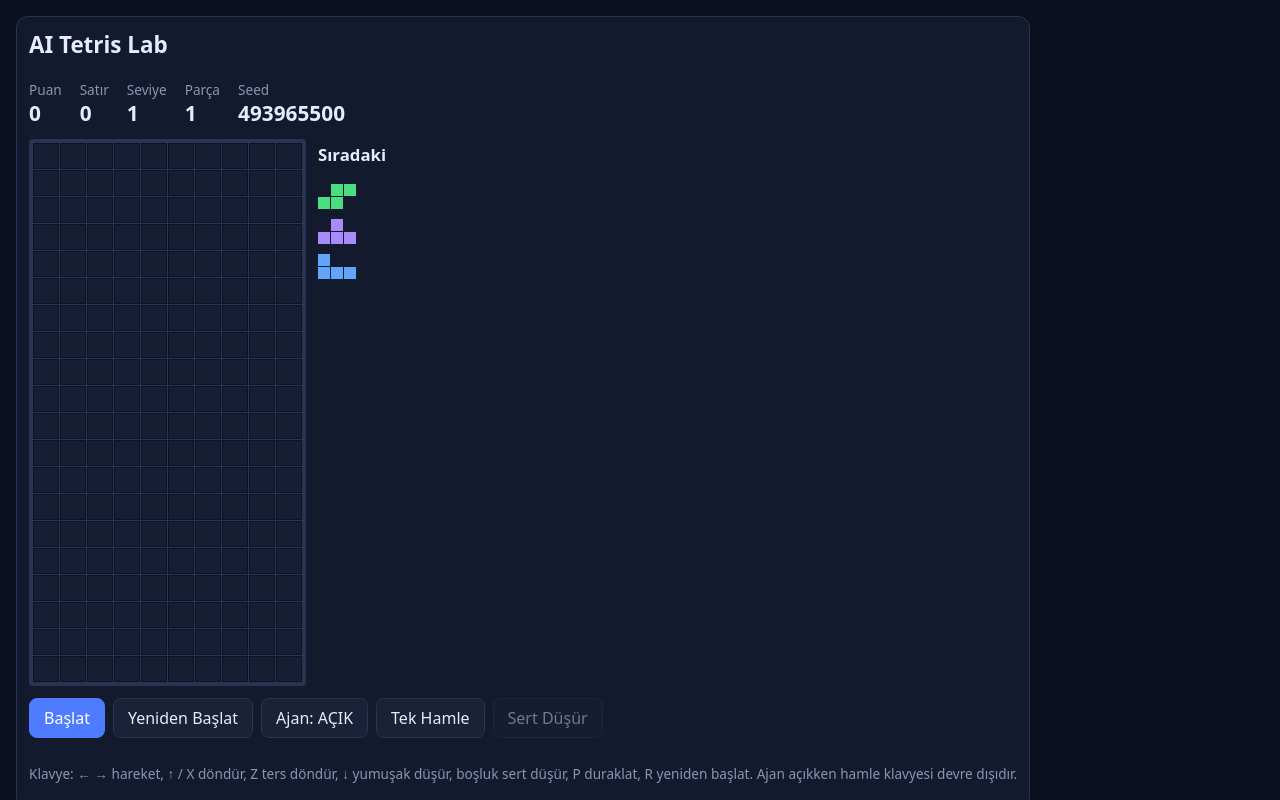
Test case: App — başlatma, duraklatma ve yeniden başlatma › ajanı açma ve kapatma çalışır
Click the button with test id "toggle-ai".
click(315, 718)  # box [261,698,368,738]
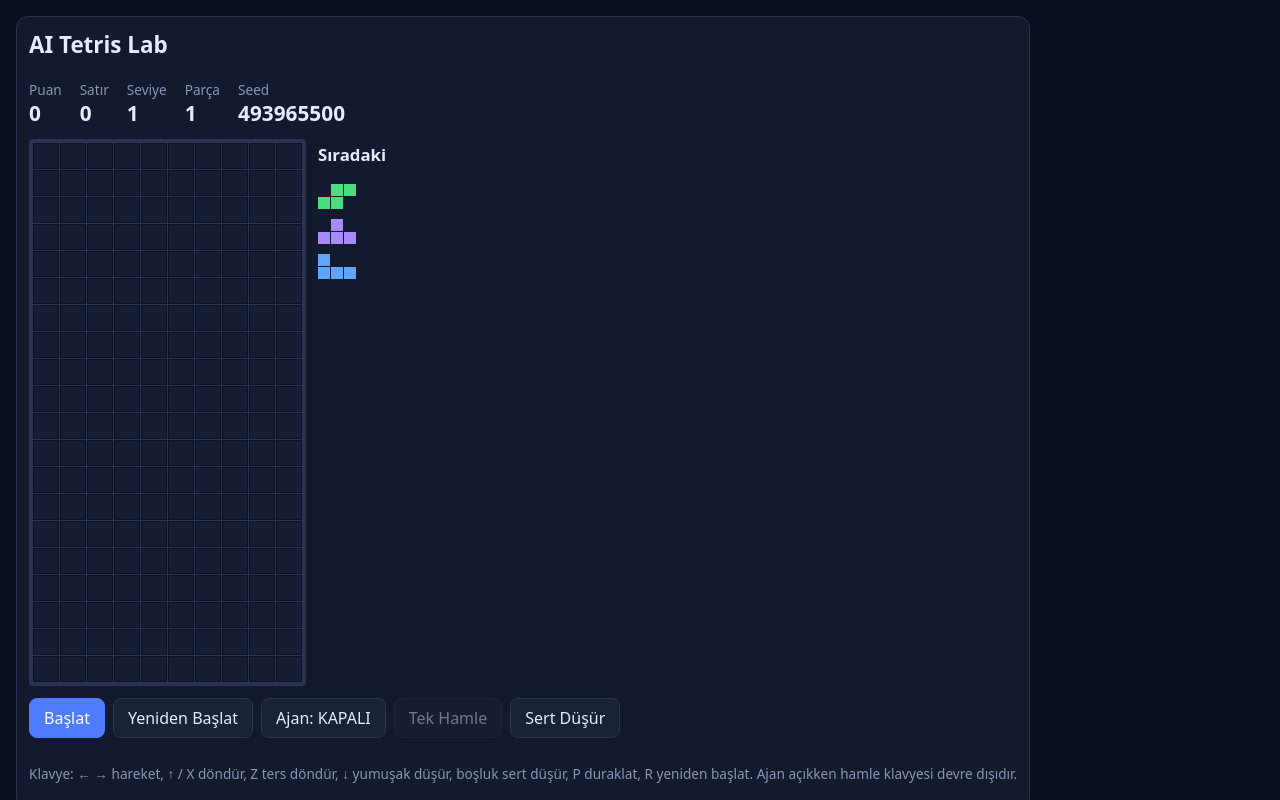
Expected: the button with test id "toggle-ai" shows "KAPALI"
Click the button with test id "toggle-ai".
click(323, 718)  # box [261,698,386,738]
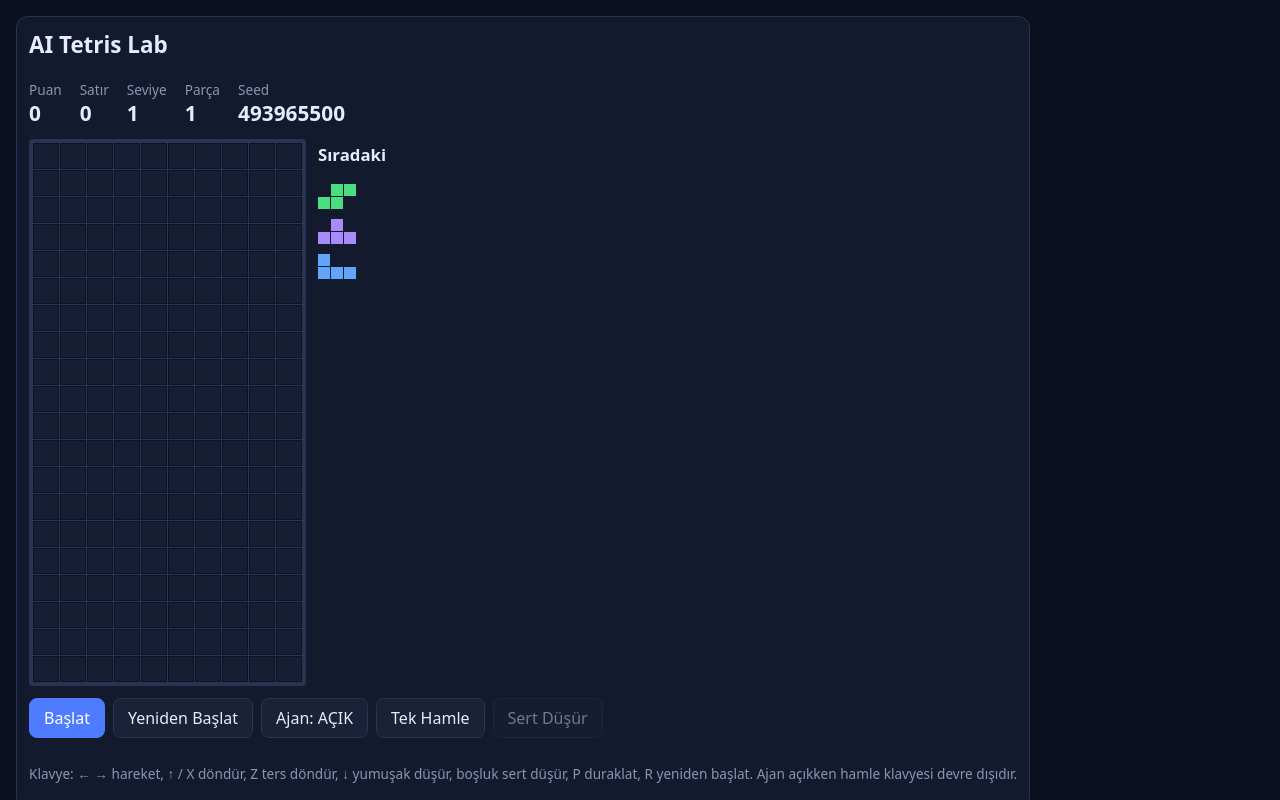
Expected: the button with test id "toggle-ai" shows "AÇIK", [261,698,368,738]
